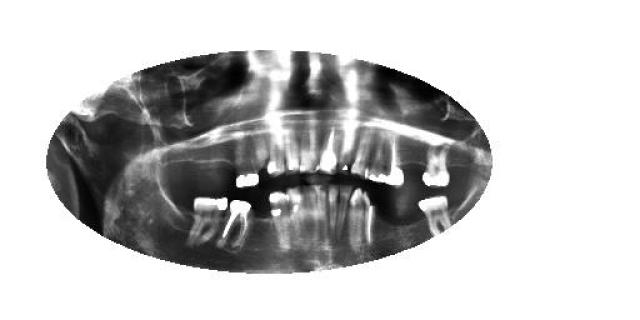Cavity: (362, 189, 376, 246)
Fillings: (189, 195, 226, 245), (268, 188, 292, 252), (418, 146, 452, 189), (362, 132, 383, 186), (235, 142, 259, 188), (263, 135, 285, 179)
Implant: (221, 200, 255, 258), (382, 134, 407, 188), (316, 125, 338, 175)
